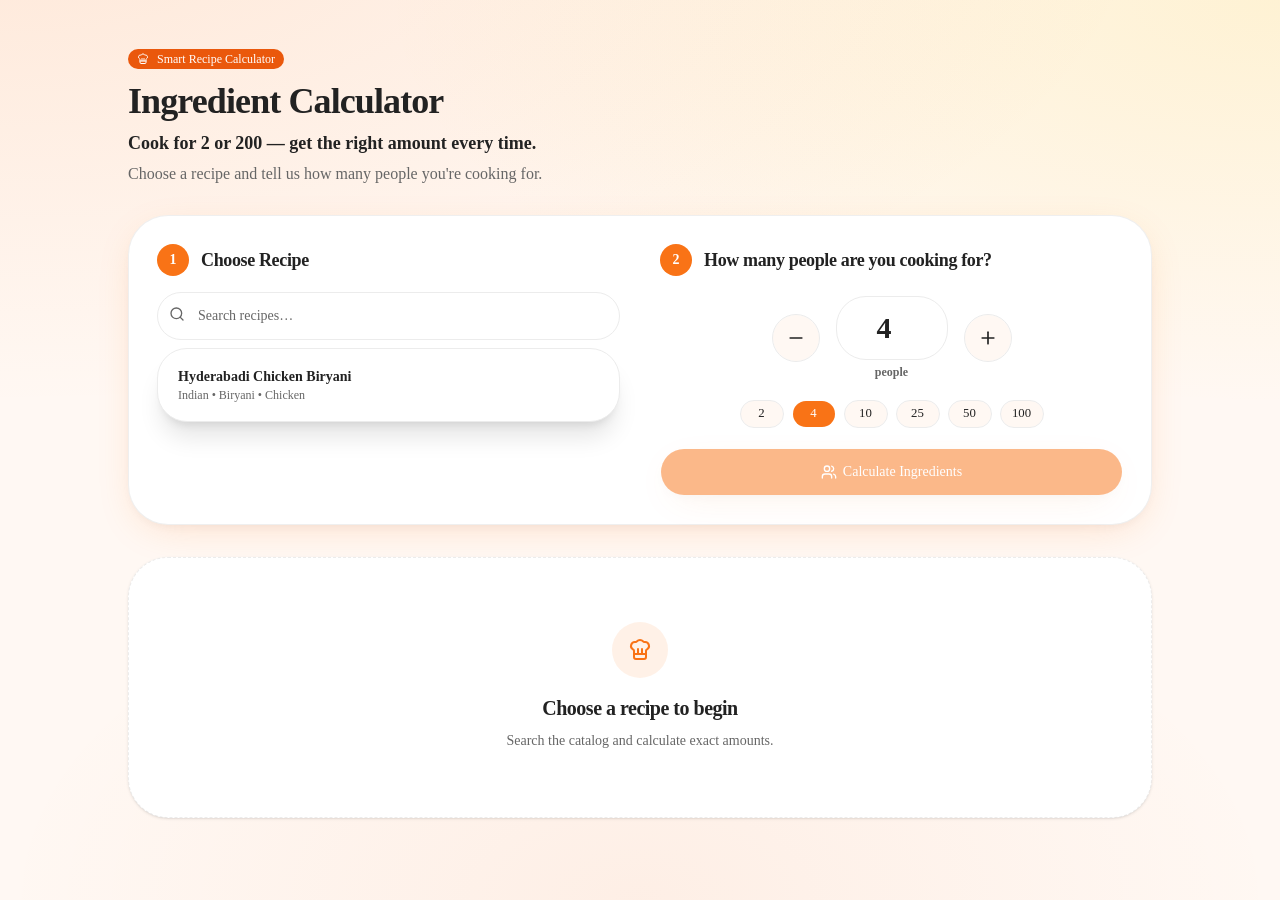
Test case: Calculate page › searches and selects a catalog recipe with its real metadata
Check: the option "Hyderabadi Chicken Biryani Indian • Biryani • Chicken" is shown, box [166, 357, 611, 413]
Step 1. Type "Hyderabadi" into the dropdown labelled "Search recipes…" → (388, 316), box [157, 292, 620, 340]
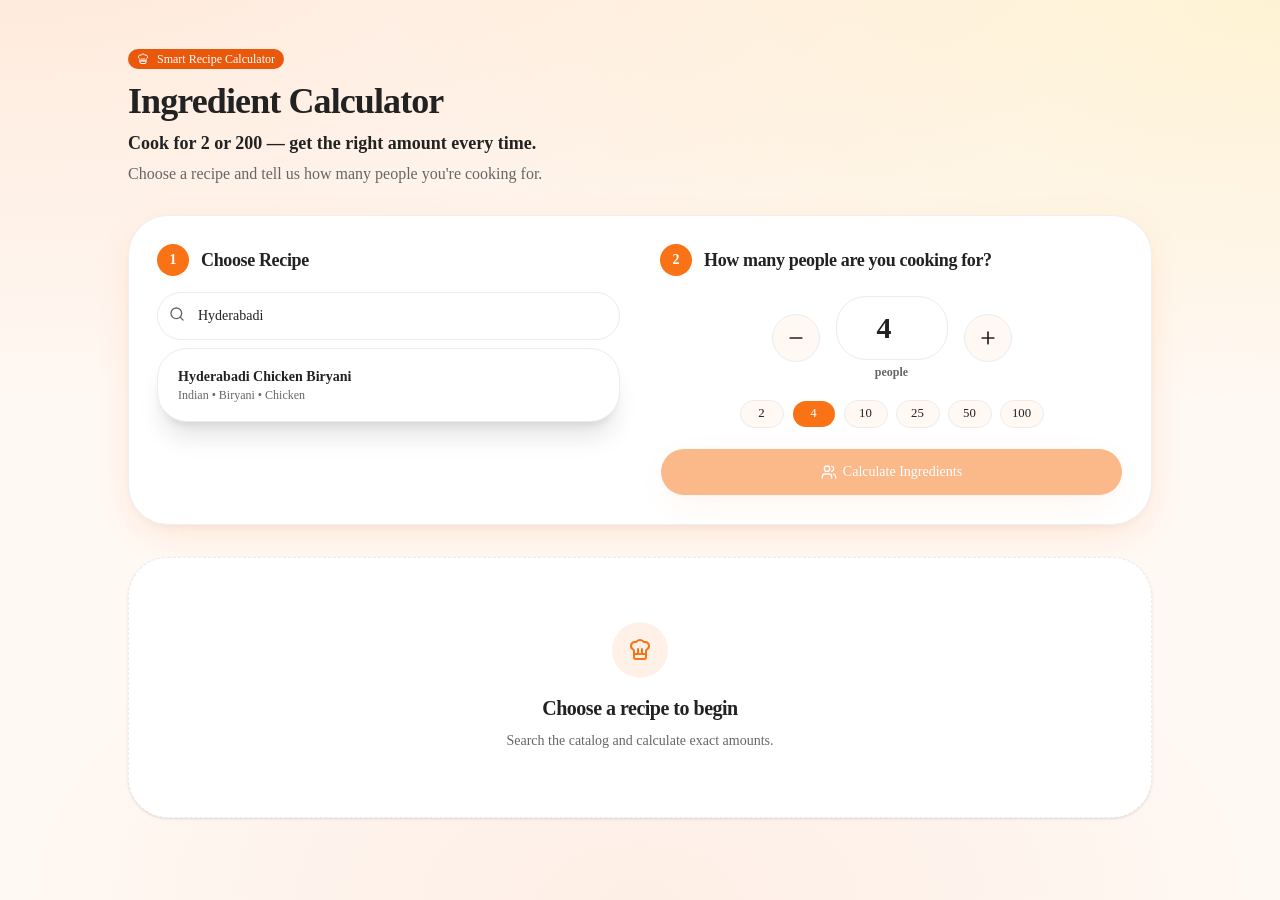
Step 2. Click the option "Hyderabadi Chicken Biryani Indian • Biryani • Chicken" → (265, 376), box [166, 357, 611, 413]
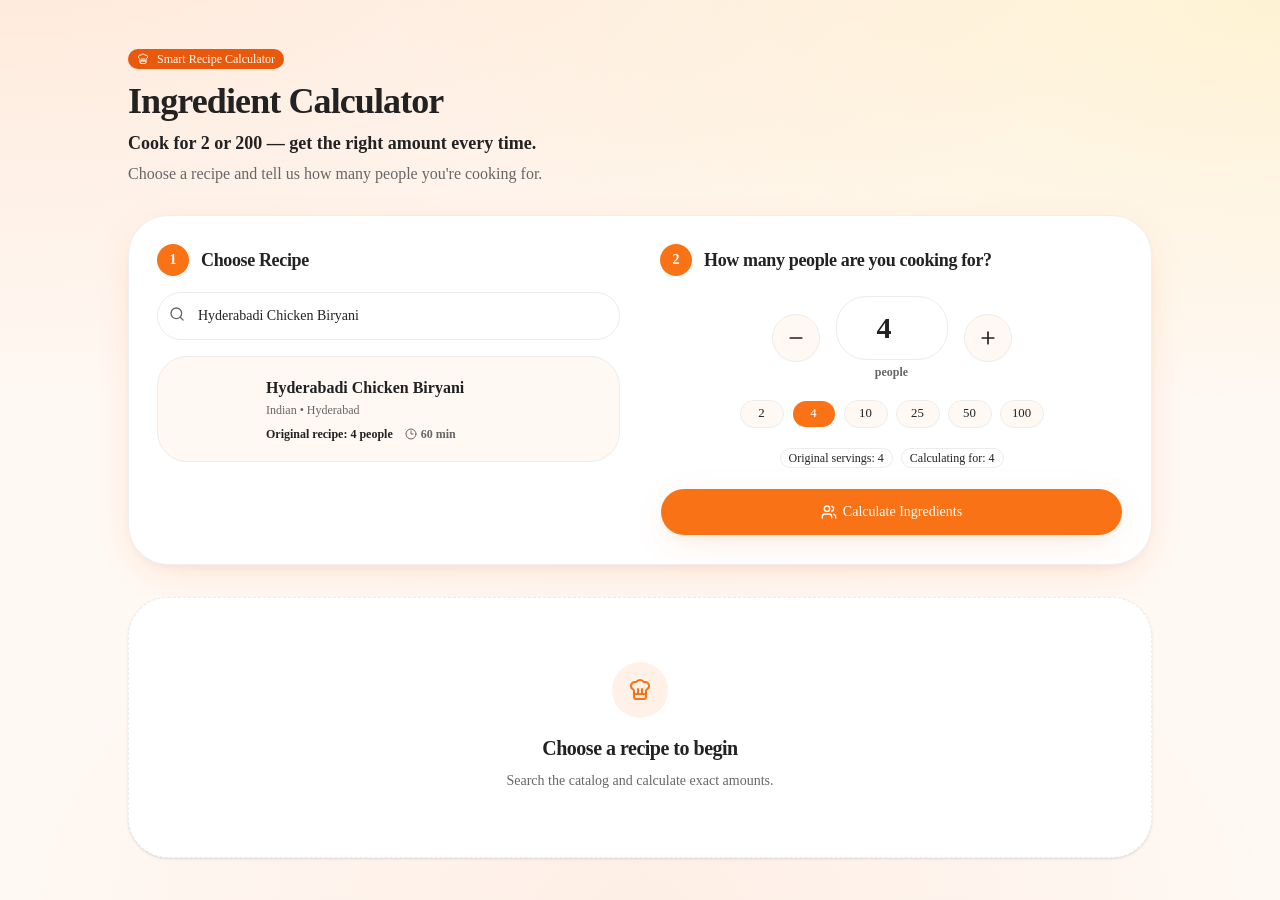
Check: the text "Indian • Hyderabad" is shown, box [266, 403, 360, 417]
Check: the text "Original recipe: 4 people" is shown, box [266, 426, 393, 442]
Check: the button "Calculate Ingredients" is enabled, box [660, 488, 1123, 536]
